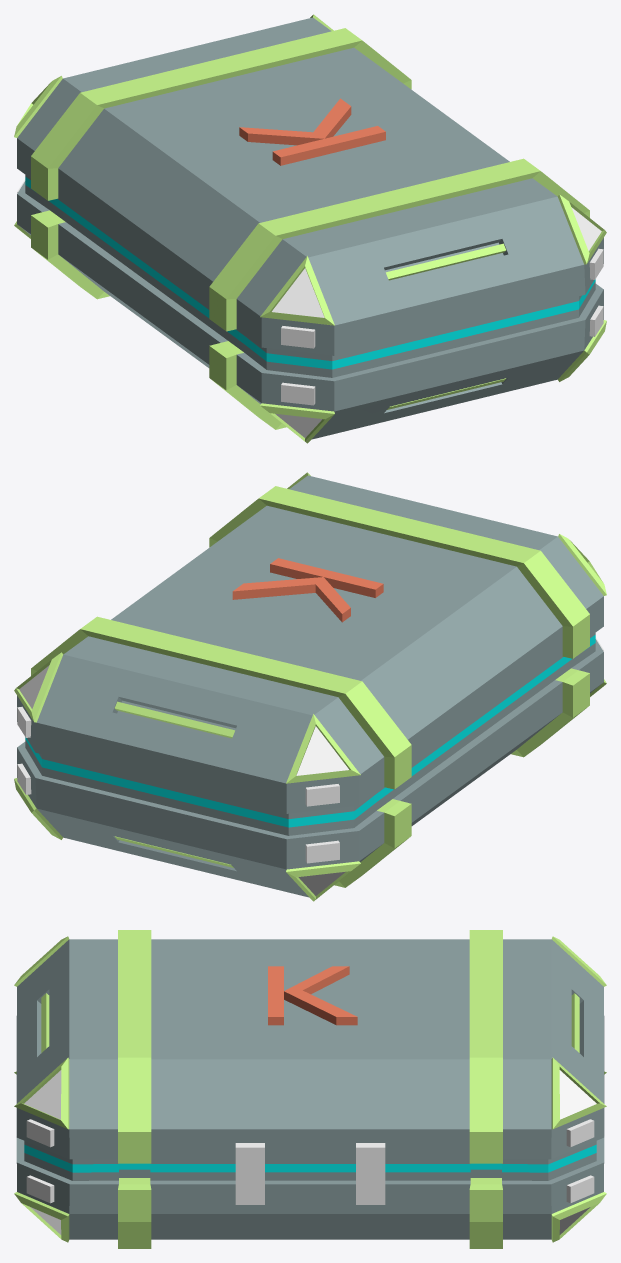
File: sci fi crate.fbx
The picture shows the model from 3 angles, top to bottom: view 1: azimuth 30°, elevation 25°; view 2: azimuth 150°, elevation 25°; view 3: azimuth 270°, elevation 25°; orthographic projection.
Parts seen in each view (by area): view 1: polySurface59; view 2: polySurface59; view 3: polySurface59.
Boxes of the visible parts, x1,y1,x2,y2 form: polySurface59: [14, 14, 606, 443]; polySurface59: [14, 472, 606, 901]; polySurface59: [14, 930, 606, 1248].
Size of the model in its own units: 2.12 by 1.1 by 3.04.
